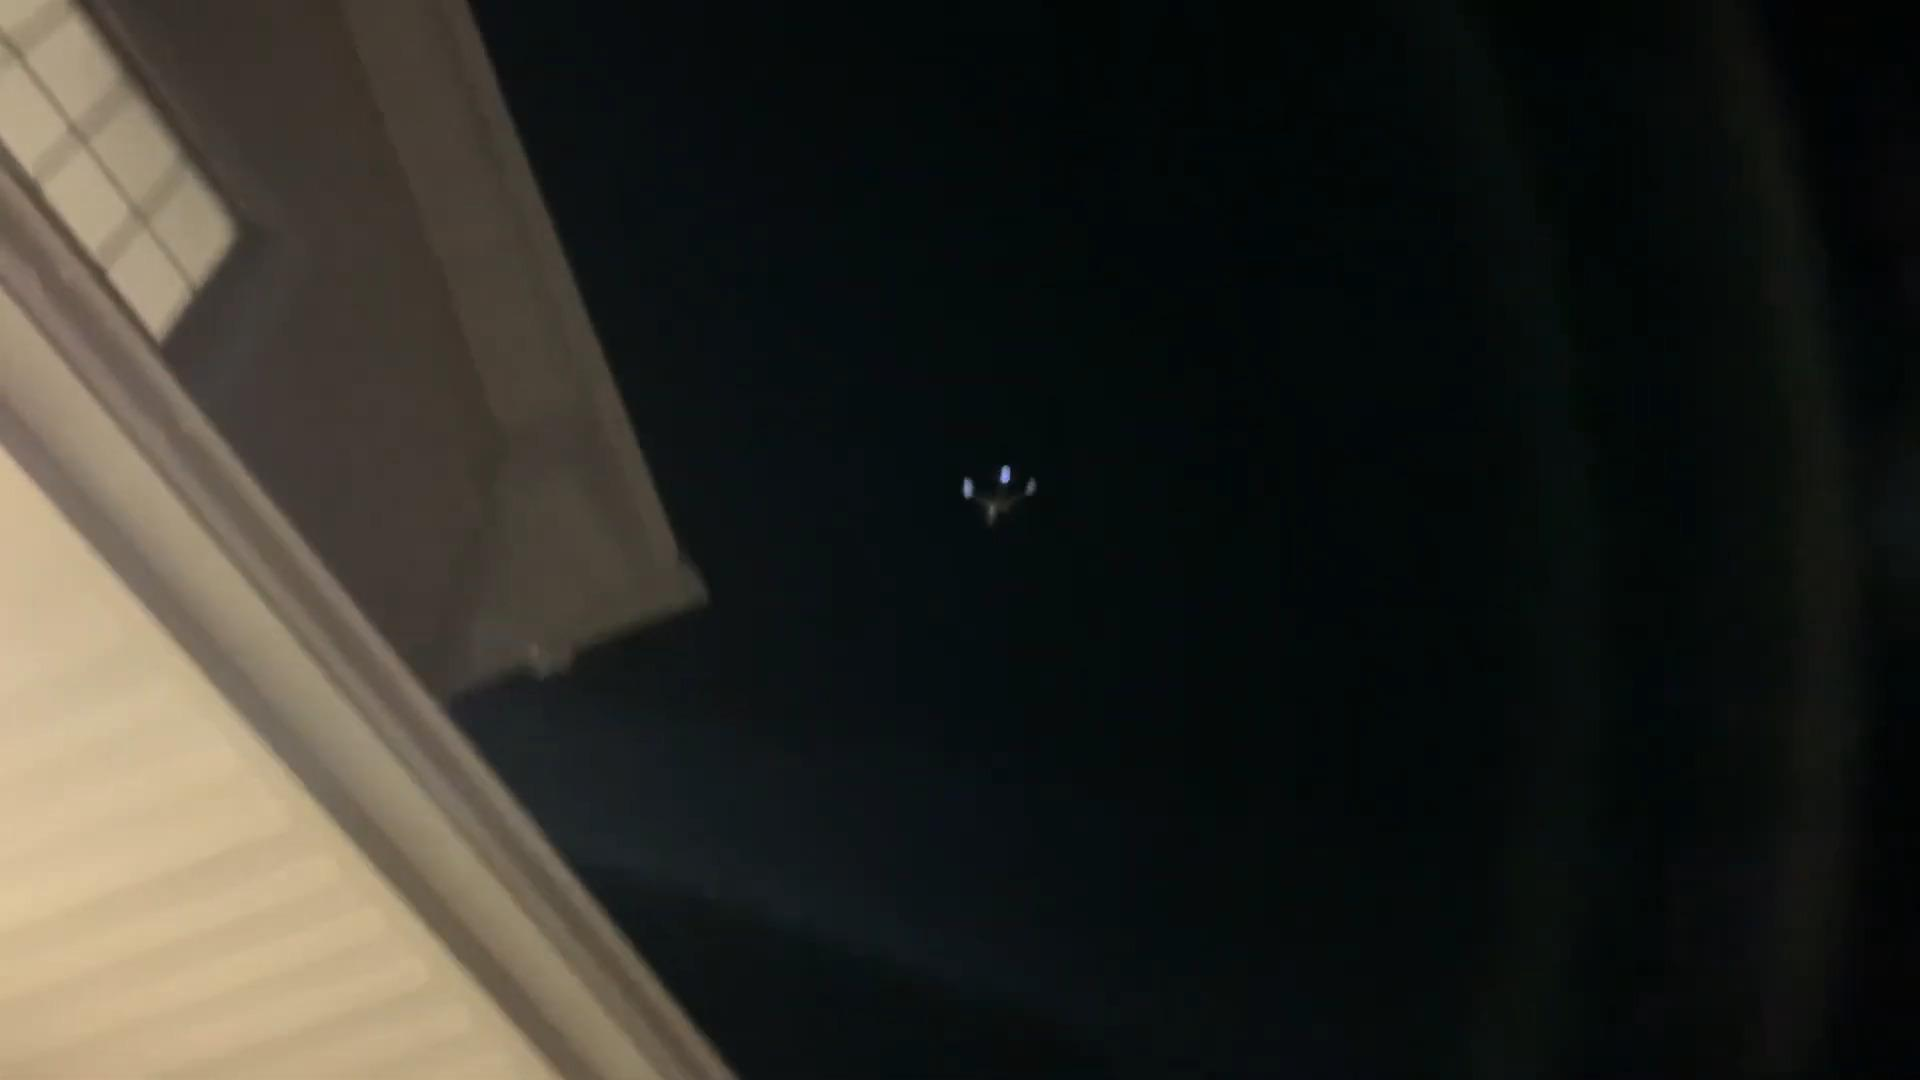Plane: (930, 450, 1088, 539)
